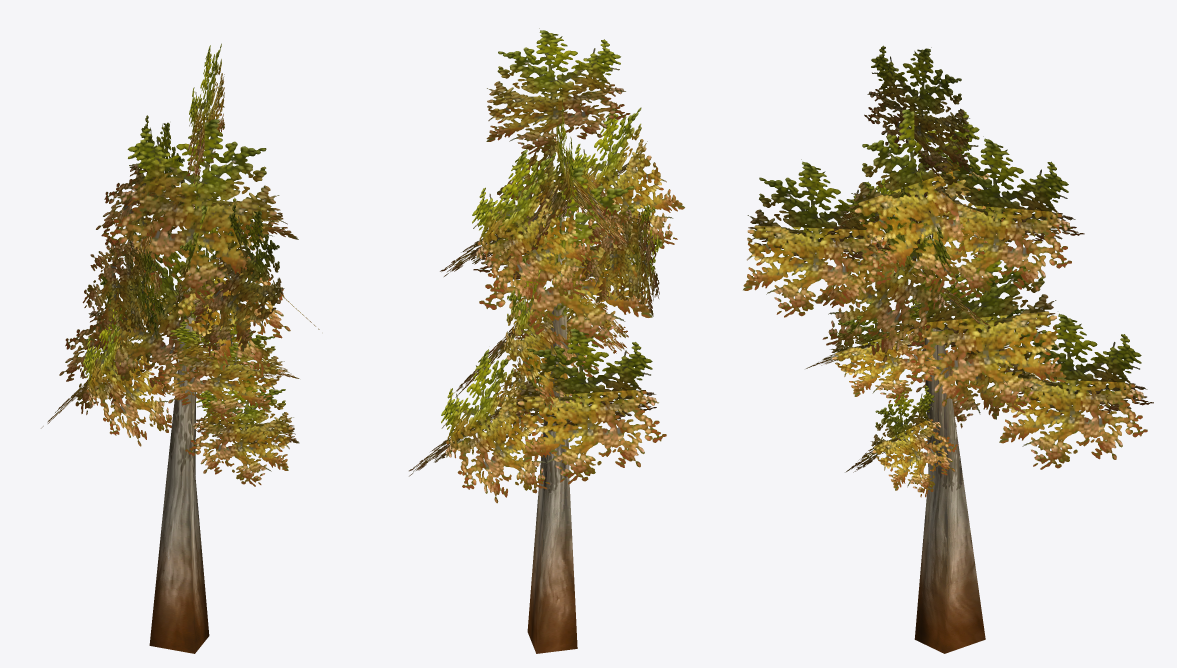
Rendered from redridgetreemid01.obj.
3 renders of one model, left to right at view 1: azimuth 30°, elevation 25°; view 2: azimuth 150°, elevation 25°; view 3: azimuth 270°, elevation 25°, orthographic.
Parts seen in each view (by area): view 1: Geoset1, Geoset0; view 2: Geoset1, Geoset0; view 3: Geoset1, Geoset0.
Part boxes in pixels (left/top/right/bottom): Geoset1: left=41, top=43, right=319, bottom=486; Geoset0: left=149, top=178, right=209, bottom=653; Geoset1: left=409, top=28, right=684, bottom=503; Geoset0: left=527, top=159, right=577, bottom=653; Geoset1: left=743, top=45, right=1153, bottom=497; Geoset0: left=914, top=169, right=985, bottom=653.
Bounding box in the file's own units: 5.52 × 12.19 × 7.78.
2 materials, 2 textured.
